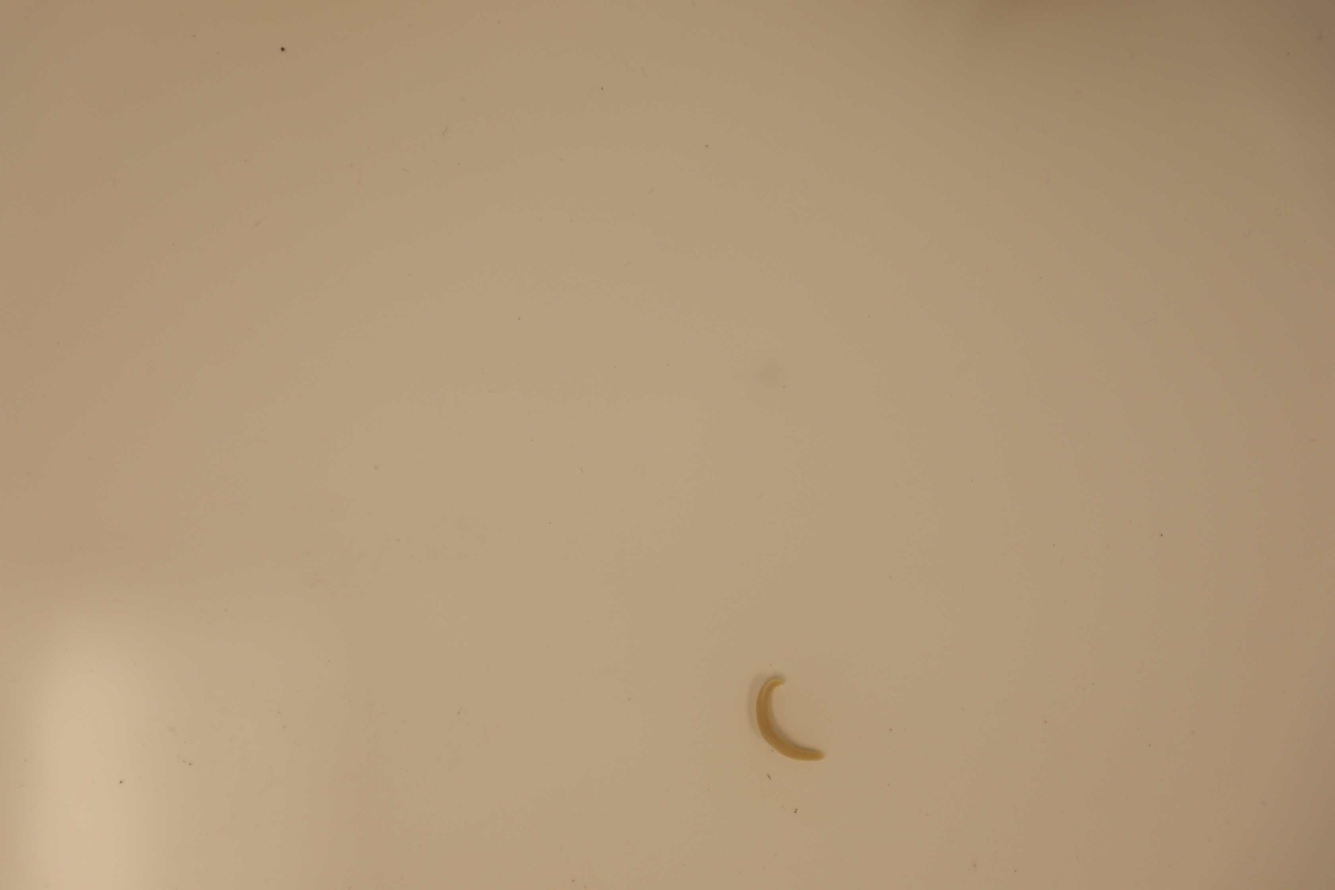Cadisfly: (751, 672, 824, 765)
